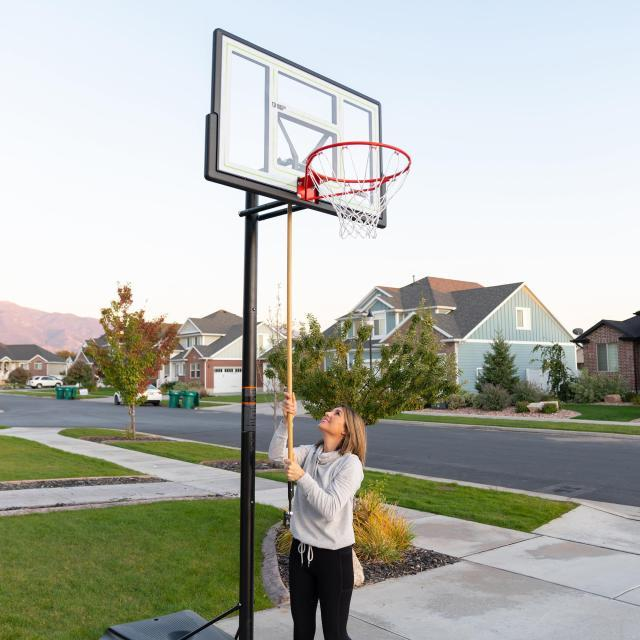hoop: (306, 142, 411, 240)
